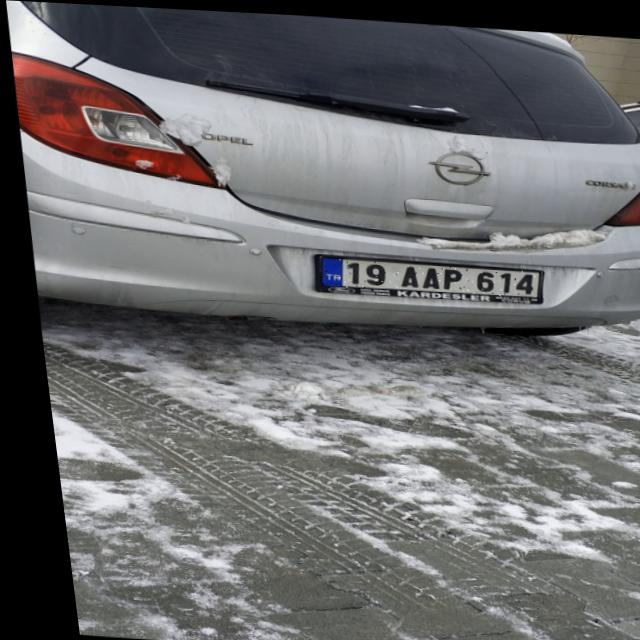license_plate: (307, 253, 537, 295)
